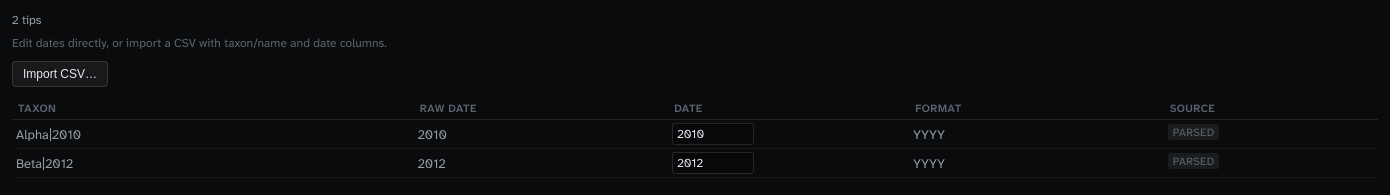
Test: DatesPanel › clears a tip date as an edit while keeping at least one valid date
Clear the field named "Date for Beta|2012" at (713, 163), box 672,152 -> 754,174
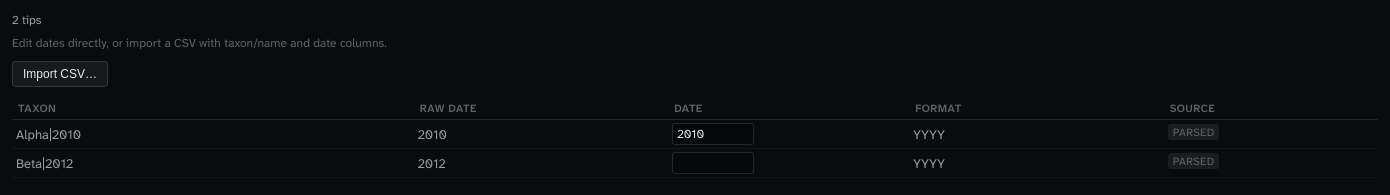
Leave the field named "Date for Beta|2012", box 672,152 -> 754,174
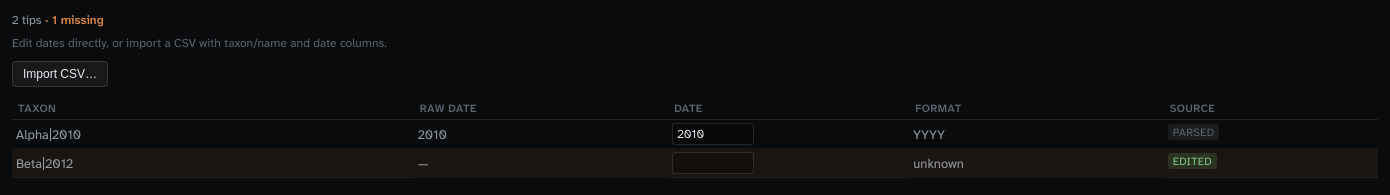
Check: the row with test id "date-row-tip_b" shows "edited", box 1173,154 -> 1212,168
